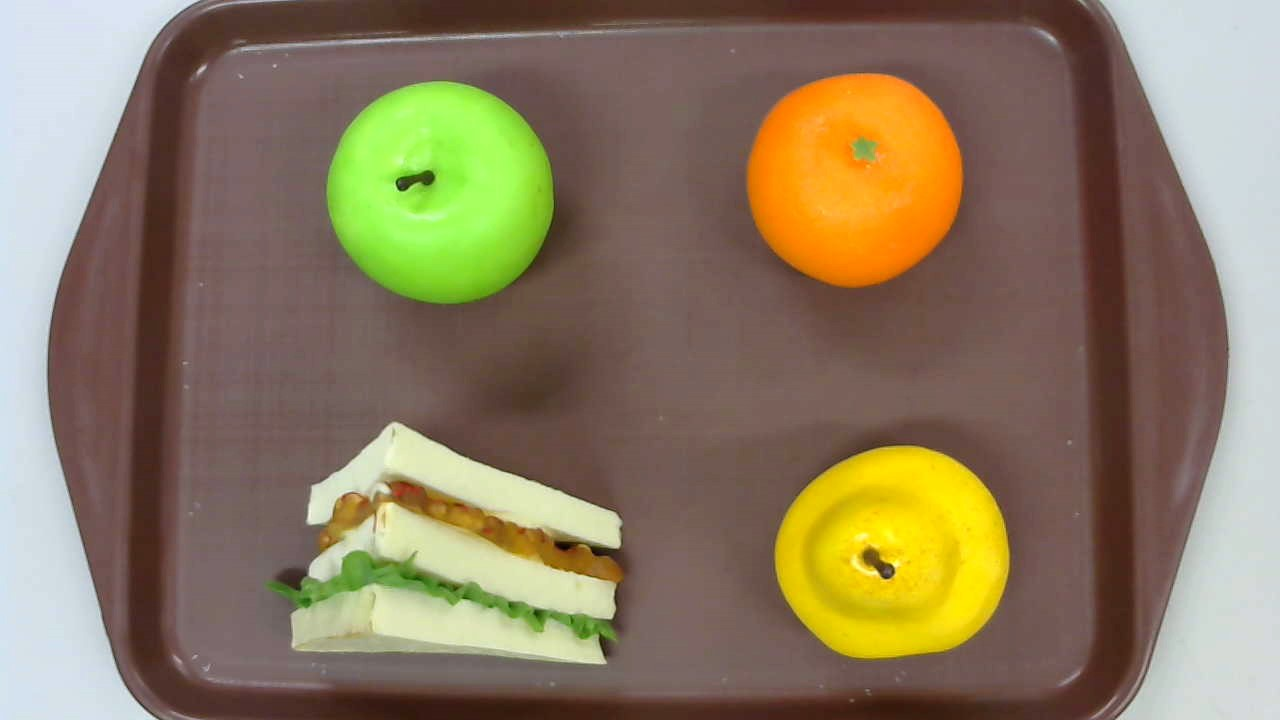green apple: (327, 79, 556, 305)
orange: (746, 71, 962, 289)
sandwich: (268, 421, 627, 664)
yellow pear: (773, 444, 1010, 658)
